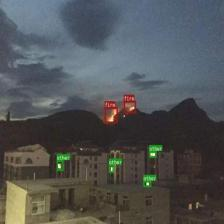fire: (104, 107, 118, 123), (124, 101, 136, 113)
